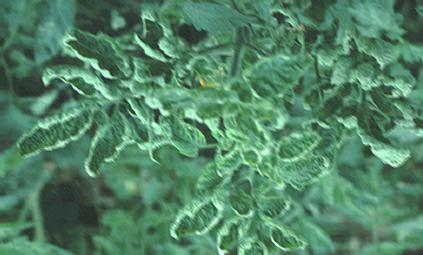Tomato leaf yellow virus: (17, 15, 136, 80), (13, 94, 104, 162), (239, 44, 321, 104), (18, 63, 127, 99), (253, 120, 325, 174), (74, 117, 119, 186), (278, 141, 338, 192), (168, 197, 227, 239), (256, 218, 323, 250), (235, 216, 270, 255)
